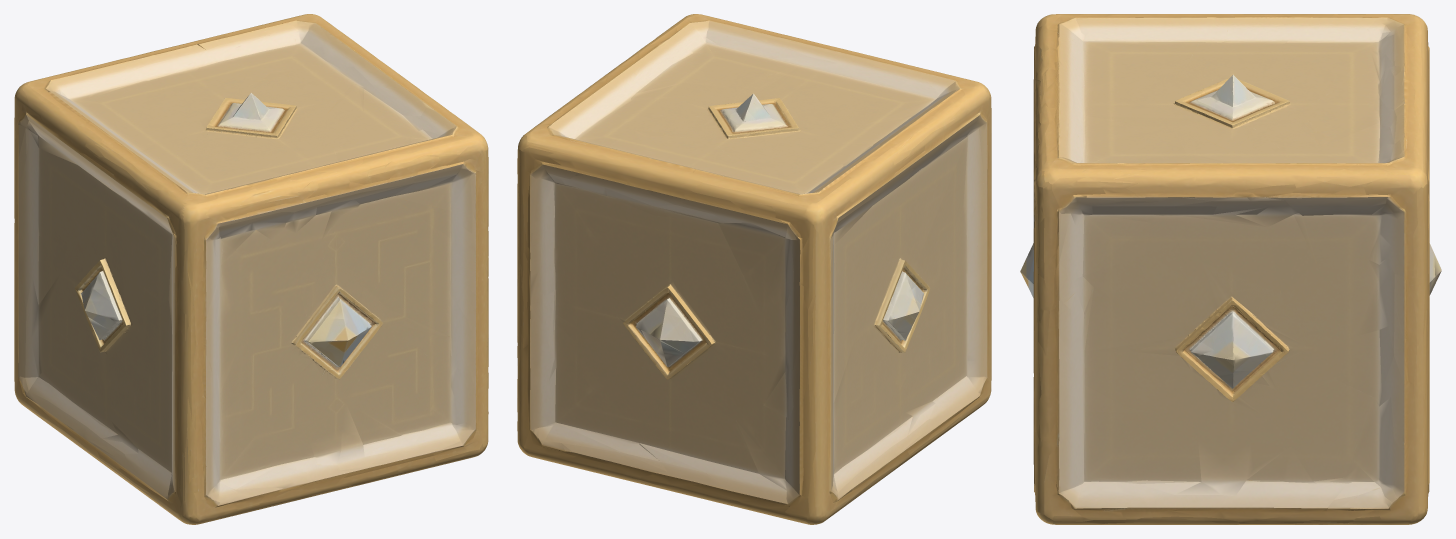
File: meshy-reference.glb
3 views of the same model, side by side, from view 1: azimuth 30°, elevation 25°; view 2: azimuth 150°, elevation 25°; view 3: azimuth 270°, elevation 25° (orthographic). The views are drawn at different scales.
Parts seen in each view (by area): view 1: Mesh_0; view 2: Mesh_0; view 3: Mesh_0.
Part boxes in pixels (left/top/right/bottom): Mesh_0: left=14, top=14, right=488, bottom=524; Mesh_0: left=517, top=14, right=991, bottom=524; Mesh_0: left=1020, top=14, right=1441, bottom=524.
Size of the model in its own units: 1.87 by 1.9 by 1.86.
1 material, 1 textured.
